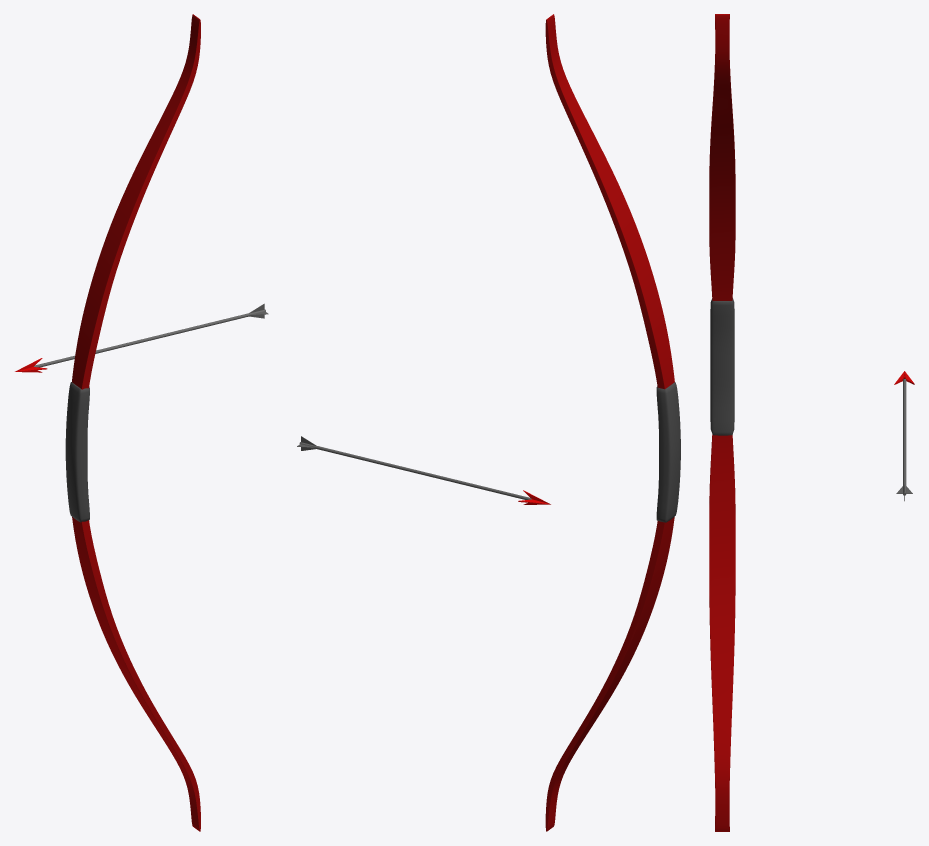
File: boew_and_arrow.fbx
3 views of the same model, side by side, from view 1: azimuth 30°, elevation 25°; view 2: azimuth 150°, elevation 25°; view 3: azimuth 270°, elevation 25° (orthographic).
Visible parts, largest first — view 1: Bow, Arrow; view 2: Bow, Arrow; view 3: Bow, Arrow.
Part boxes in pixels (x1,y1,x2,y2): Bow: (65,14,200,831); Arrow: (15,303,268,372); Bow: (545,14,680,831); Arrow: (297,436,550,504); Bow: (709,14,735,831); Arrow: (894,371,914,501).
Size of the model in its own units: 2.49 by 6.75 by 1.54.
